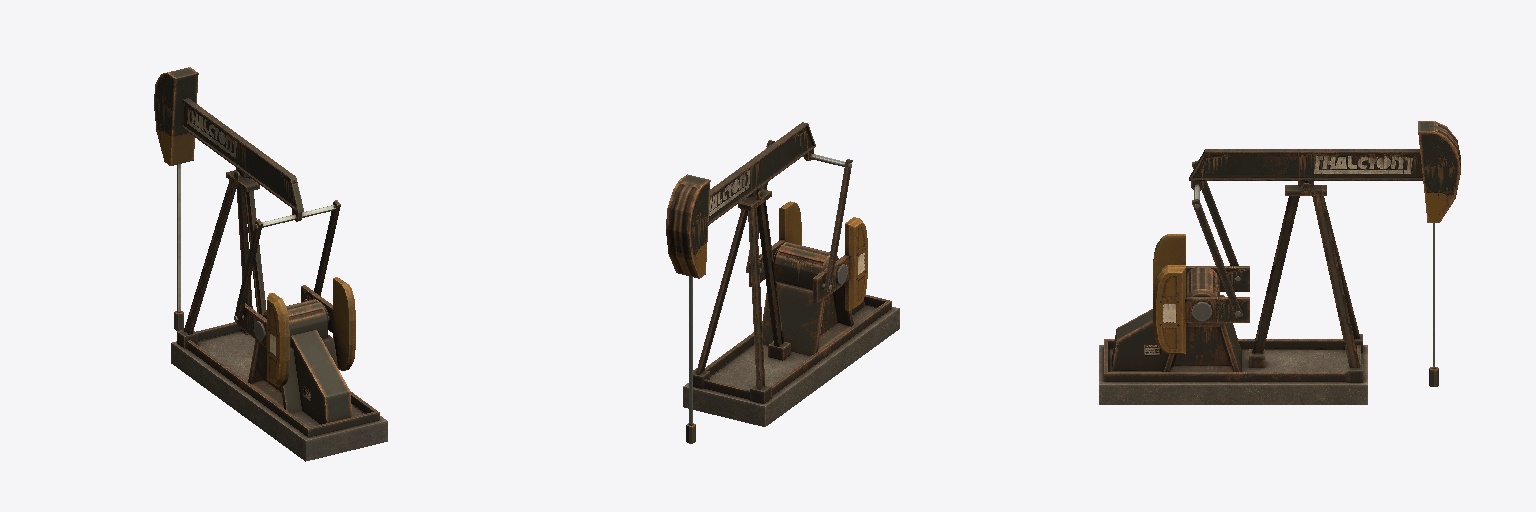
3 views of the same model, side by side, from view 1: azimuth 30°, elevation 25°; view 2: azimuth 150°, elevation 25°; view 3: azimuth 270°, elevation 25° (orthographic).
Parts seen in each view (by area): view 1: Object001_Mesh.002; view 2: Object001_Mesh.002; view 3: Object001_Mesh.002.
Boxes of the visible parts, x1,y1,x2,y2 form: Object001_Mesh.002: [154, 67, 387, 461]; Object001_Mesh.002: [666, 122, 899, 443]; Object001_Mesh.002: [1099, 121, 1460, 404].
Bounding box in the file's own units: 3.12 × 9.22 × 11.71.
Materials: 1 (1 with a texture image).